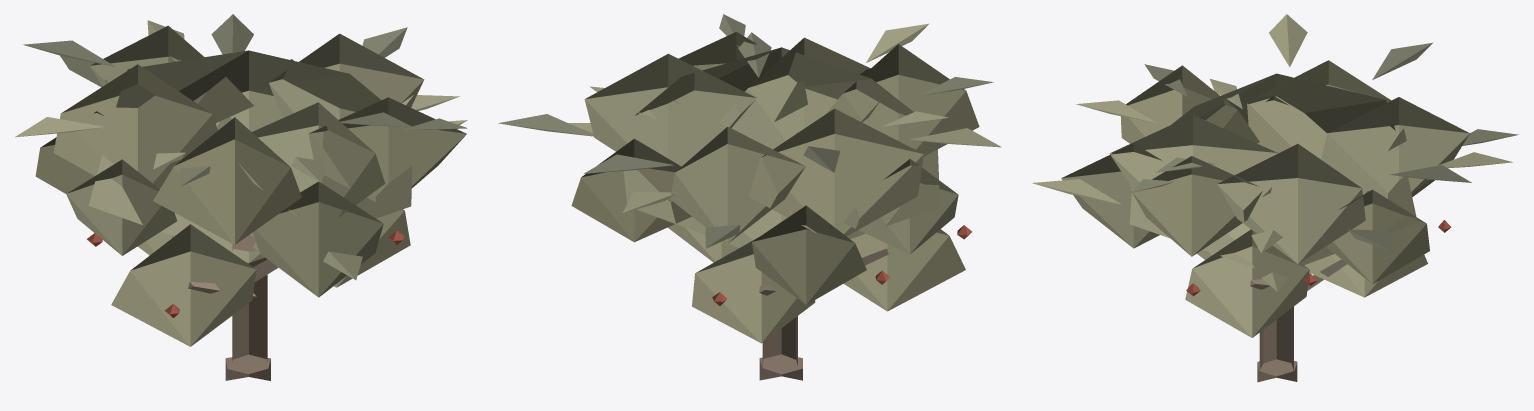
File: shu.chuilui@fruiting__winter.glb
3 renders of one model, left to right at view 1: azimuth 30°, elevation 25°; view 2: azimuth 150°, elevation 25°; view 3: azimuth 270°, elevation 25°, orthographic. The views are drawn at different scales.
Visible parts, largest first — view 1: shu.chuilui@fruiting__winter; view 2: shu.chuilui@fruiting__winter; view 3: shu.chuilui@fruiting__winter.
Boxes of the visible parts, bbox=[...] form: shu.chuilui@fruiting__winter: bbox=[15, 14, 467, 380]; shu.chuilui@fruiting__winter: bbox=[498, 14, 1001, 380]; shu.chuilui@fruiting__winter: bbox=[1032, 14, 1518, 382].
Size of the model in its own units: 15.32 by 10.49 by 15.84.
